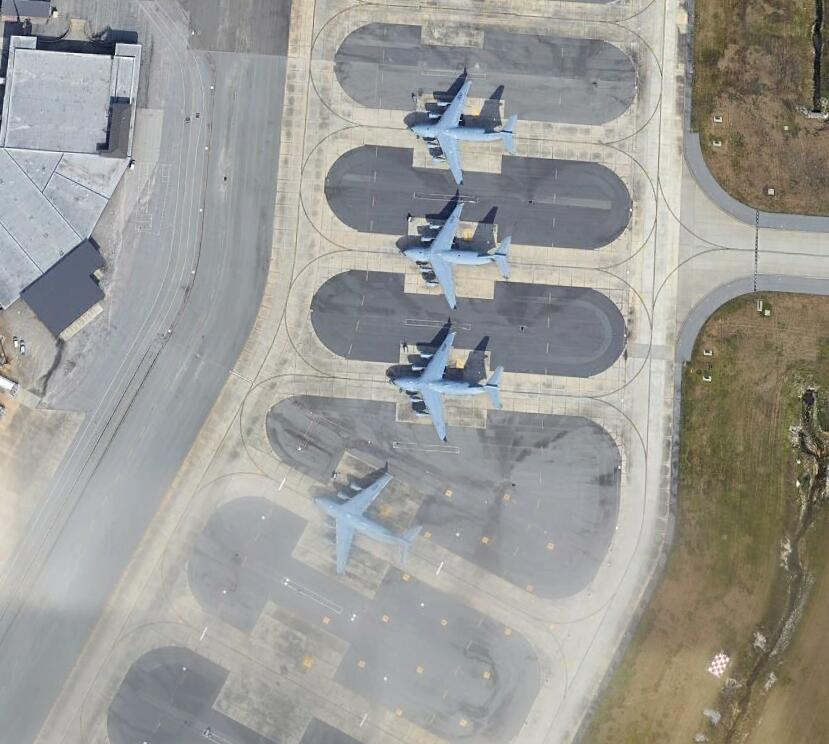A3: (391, 329, 504, 443), (400, 201, 512, 316), (409, 79, 519, 191), (314, 470, 423, 580)
